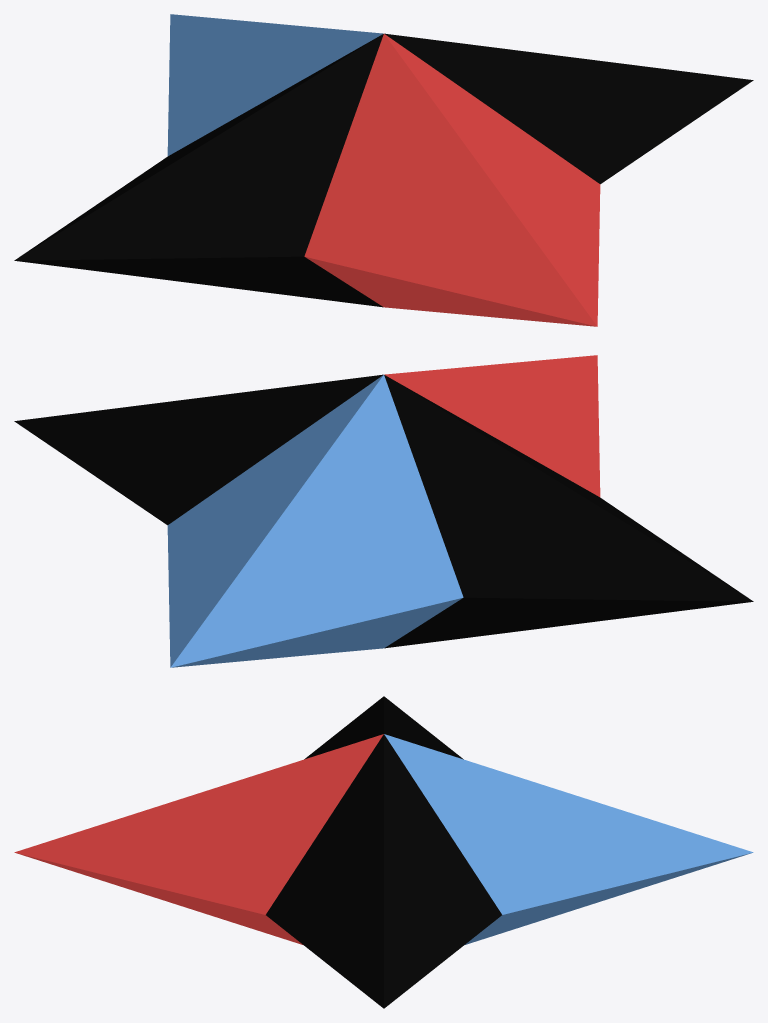
The model's file is MoveWidget.glb.
The picture shows the model from 3 angles, top to bottom: view 1: azimuth 30°, elevation 25°; view 2: azimuth 150°, elevation 25°; view 3: azimuth 270°, elevation 25°; orthographic projection. The views are drawn at different scales.
Visible parts, largest first — view 1: Cube; view 2: Cube; view 3: Cube.
Part boxes in pixels (x1=…): Cube: x1=14, y1=14, x2=753, y2=326; Cube: x1=14, y1=355, x2=753, y2=667; Cube: x1=14, y1=696, x2=753, y2=1008.
Size of the model in its own units: 0.0198 by 0.007 by 0.0198.
Materials: 1 (1 with a texture image).
